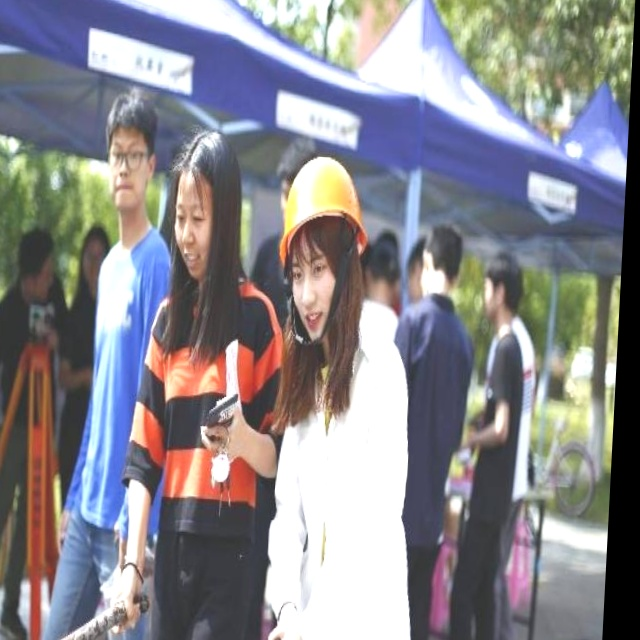Con_Casco: (276, 156, 371, 327)
Sin_Casco_Mascarrilla: (172, 124, 245, 288), (101, 86, 160, 210)
